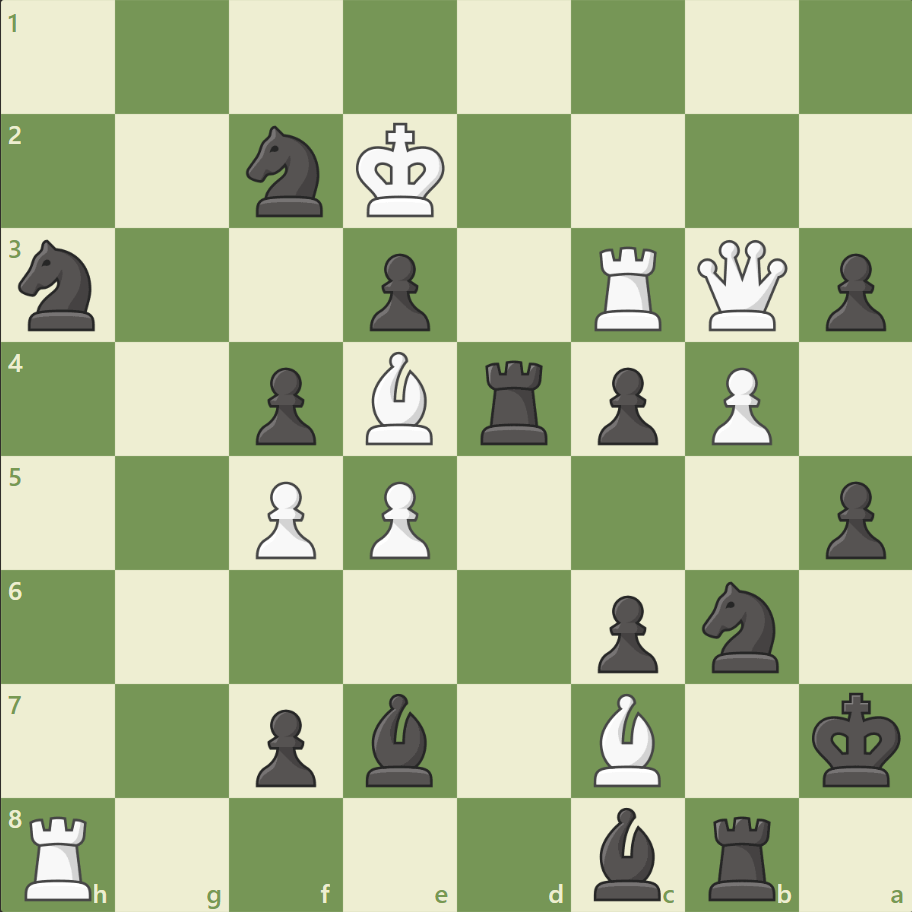B: (585, 687, 669, 790), (358, 347, 442, 449)
K: (351, 117, 451, 225)
P: (247, 473, 322, 564), (701, 359, 776, 450), (361, 473, 435, 564)
Q: (691, 236, 790, 335)
R: (19, 806, 102, 904), (587, 239, 670, 336)
b: (585, 801, 669, 904), (358, 687, 442, 790)
k: (806, 685, 906, 793)
n: (11, 234, 108, 337), (692, 575, 789, 677), (238, 121, 335, 223)
p: (247, 700, 322, 791), (247, 359, 322, 450), (588, 586, 662, 677), (815, 473, 889, 564), (588, 359, 662, 450), (815, 246, 889, 337), (361, 246, 435, 337)
r: (700, 806, 783, 904), (473, 352, 556, 449)
